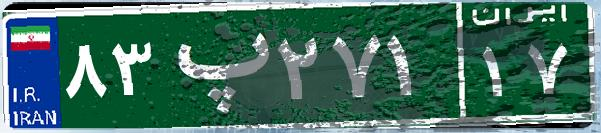1: (385, 28, 445, 110), (475, 38, 525, 113)
2: (273, 28, 330, 110)
3: (110, 28, 158, 105)
7: (330, 28, 385, 110), (525, 38, 570, 115)
8: (57, 26, 110, 107)
پ: (158, 15, 273, 115)
